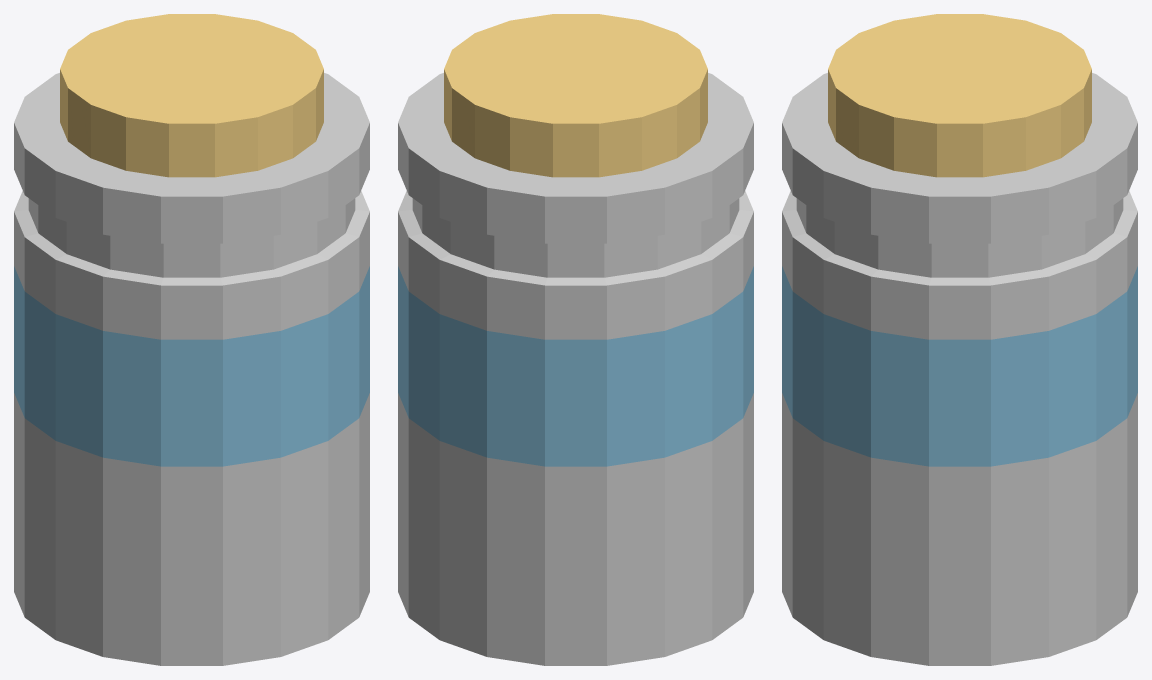
File: bottle2.fbx
3 renders of one model, left to right at view 1: azimuth 30°, elevation 25°; view 2: azimuth 150°, elevation 25°; view 3: azimuth 270°, elevation 25°, orthographic.
Visible parts, largest first — view 1: Bottle; view 2: Bottle; view 3: Bottle.
Boxes of the visible parts, bbox=[...] form: Bottle: bbox=[14, 14, 369, 665]; Bottle: bbox=[398, 14, 753, 665]; Bottle: bbox=[782, 14, 1137, 665].
Size of the model in its own units: 51.56 by 84.88 by 52.35.
